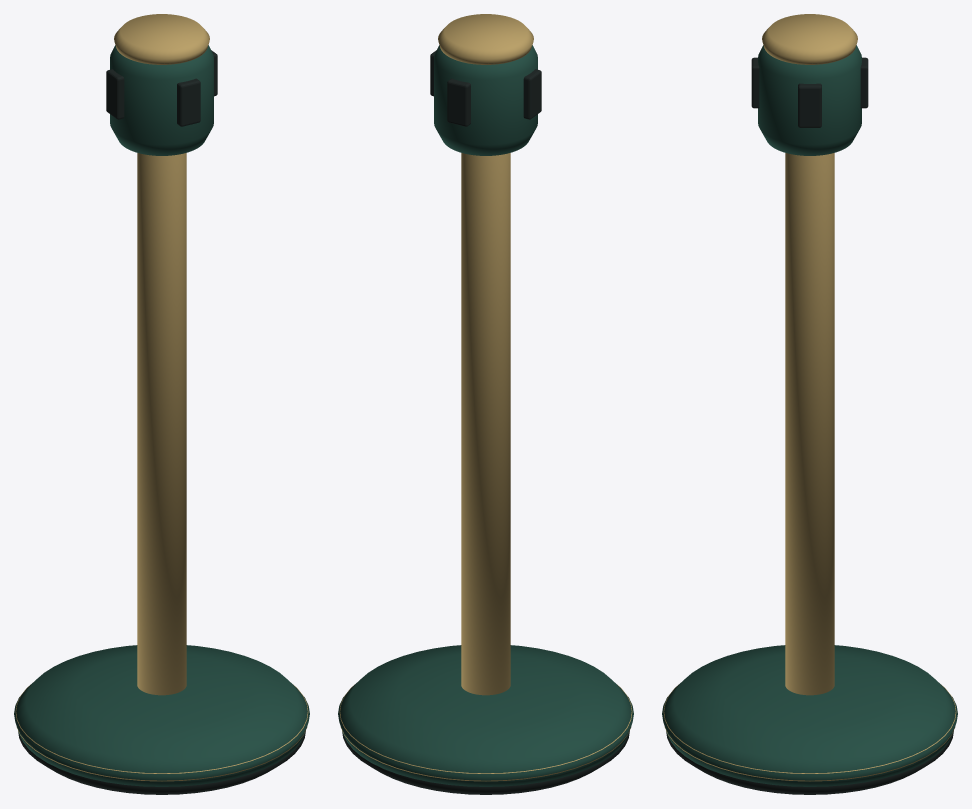
The model's file is mall-queue-post.glb.
3 renders of one model, left to right at view 1: azimuth 30°, elevation 25°; view 2: azimuth 150°, elevation 25°; view 3: azimuth 270°, elevation 25°, orthographic.
Parts seen in each view (by area): view 1: MODULE_Post; view 2: MODULE_Post; view 3: MODULE_Post.
Boxes of the visible parts, box(x1,y1,x2,y2) form: MODULE_Post: box(14, 14, 309, 794); MODULE_Post: box(338, 14, 633, 794); MODULE_Post: box(662, 14, 957, 794).
Bounding box in the file's own units: 0.37 × 0.976 × 0.37.
